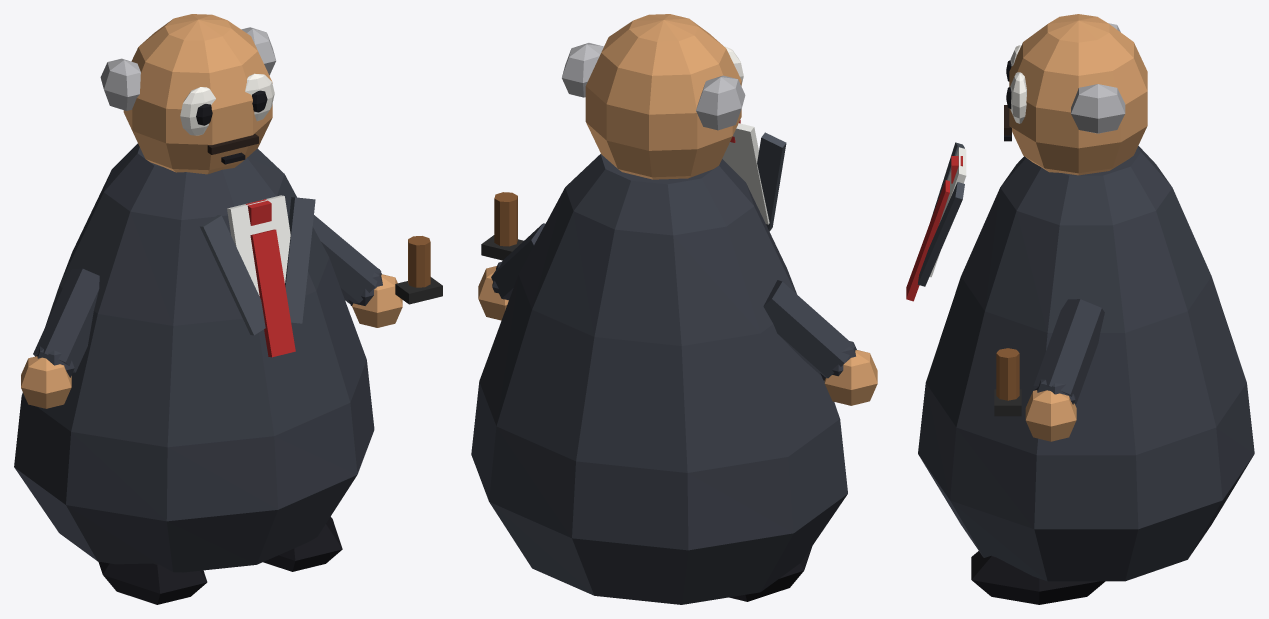
Rendered from npc_senor_tramite.glb.
3 views of the same model, side by side, from view 1: azimuth 30°, elevation 25°; view 2: azimuth 150°, elevation 25°; view 3: azimuth 270°, elevation 25° (orthographic). The views are drawn at different scales.
Visible parts, largest first — view 1: body_suit_dark (×2), head_skin_arena, arms_suit_dark, body_suit_lapel, legs_black, body_tie, arms_skin_arena, body_office_shirt, head_hair_gray (×2), face_white, stamp_stamp_wood, stamp_stamp_rubber (+1 smaller); view 2: body_suit_dark (×2), head_skin_arena, arms_suit_dark, head_hair_gray (×2), arms_skin_arena, body_office_shirt, body_suit_lapel, stamp_stamp_wood, legs_black; view 3: body_suit_dark (×2), head_skin_arena, arms_suit_dark, legs_black, head_hair_gray, arms_skin_arena, body_suit_lapel, body_tie, stamp_stamp_wood, face_white, stamp_stamp_rubber, body_office_shirt.
Part boxes in pixels (bbox=[...]): body_suit_dark (×2): bbox=[14, 143, 374, 572]; head_skin_arena: bbox=[123, 14, 272, 174]; arms_suit_dark: bbox=[33, 215, 382, 377]; body_suit_lapel: bbox=[200, 197, 315, 335]; legs_black: bbox=[98, 516, 342, 604]; body_tie: bbox=[245, 199, 295, 357]; arms_skin_arena: bbox=[21, 274, 402, 408]; body_office_shirt: bbox=[227, 195, 290, 295]; head_hair_gray (×2): bbox=[100, 27, 276, 110]; face_white: bbox=[180, 73, 274, 135]; stamp_stamp_wood: bbox=[408, 236, 430, 287]; stamp_stamp_rubber: bbox=[395, 277, 442, 304]; body_suit_dark (×2): bbox=[471, 154, 847, 604]; head_skin_arena: bbox=[585, 14, 741, 179]; arms_suit_dark: bbox=[491, 223, 856, 380]; head_hair_gray (×2): bbox=[562, 43, 745, 130]; arms_skin_arena: bbox=[478, 266, 877, 405]; body_office_shirt: bbox=[722, 123, 769, 224]; body_suit_lapel: bbox=[757, 132, 786, 231]; stamp_stamp_wood: bbox=[494, 192, 517, 246]; legs_black: bbox=[729, 546, 812, 601]; body_suit_dark (×2): bbox=[918, 146, 1254, 581]; head_skin_arena: bbox=[1009, 14, 1147, 175]; arms_suit_dark: bbox=[1033, 299, 1104, 404]; legs_black: bbox=[971, 551, 1105, 604]; head_hair_gray: bbox=[1071, 84, 1125, 133]; arms_skin_arena: bbox=[1025, 390, 1076, 441]; body_suit_lapel: bbox=[917, 142, 964, 286]; body_tie: bbox=[906, 156, 962, 301]; stamp_stamp_wood: bbox=[996, 348, 1019, 400]; face_white: bbox=[1010, 45, 1026, 123]; stamp_stamp_rubber: bbox=[994, 389, 1021, 416]; body_office_shirt: bbox=[929, 147, 966, 277].
Size of the model in its own units: 1.17 by 1.53 by 0.8898.
